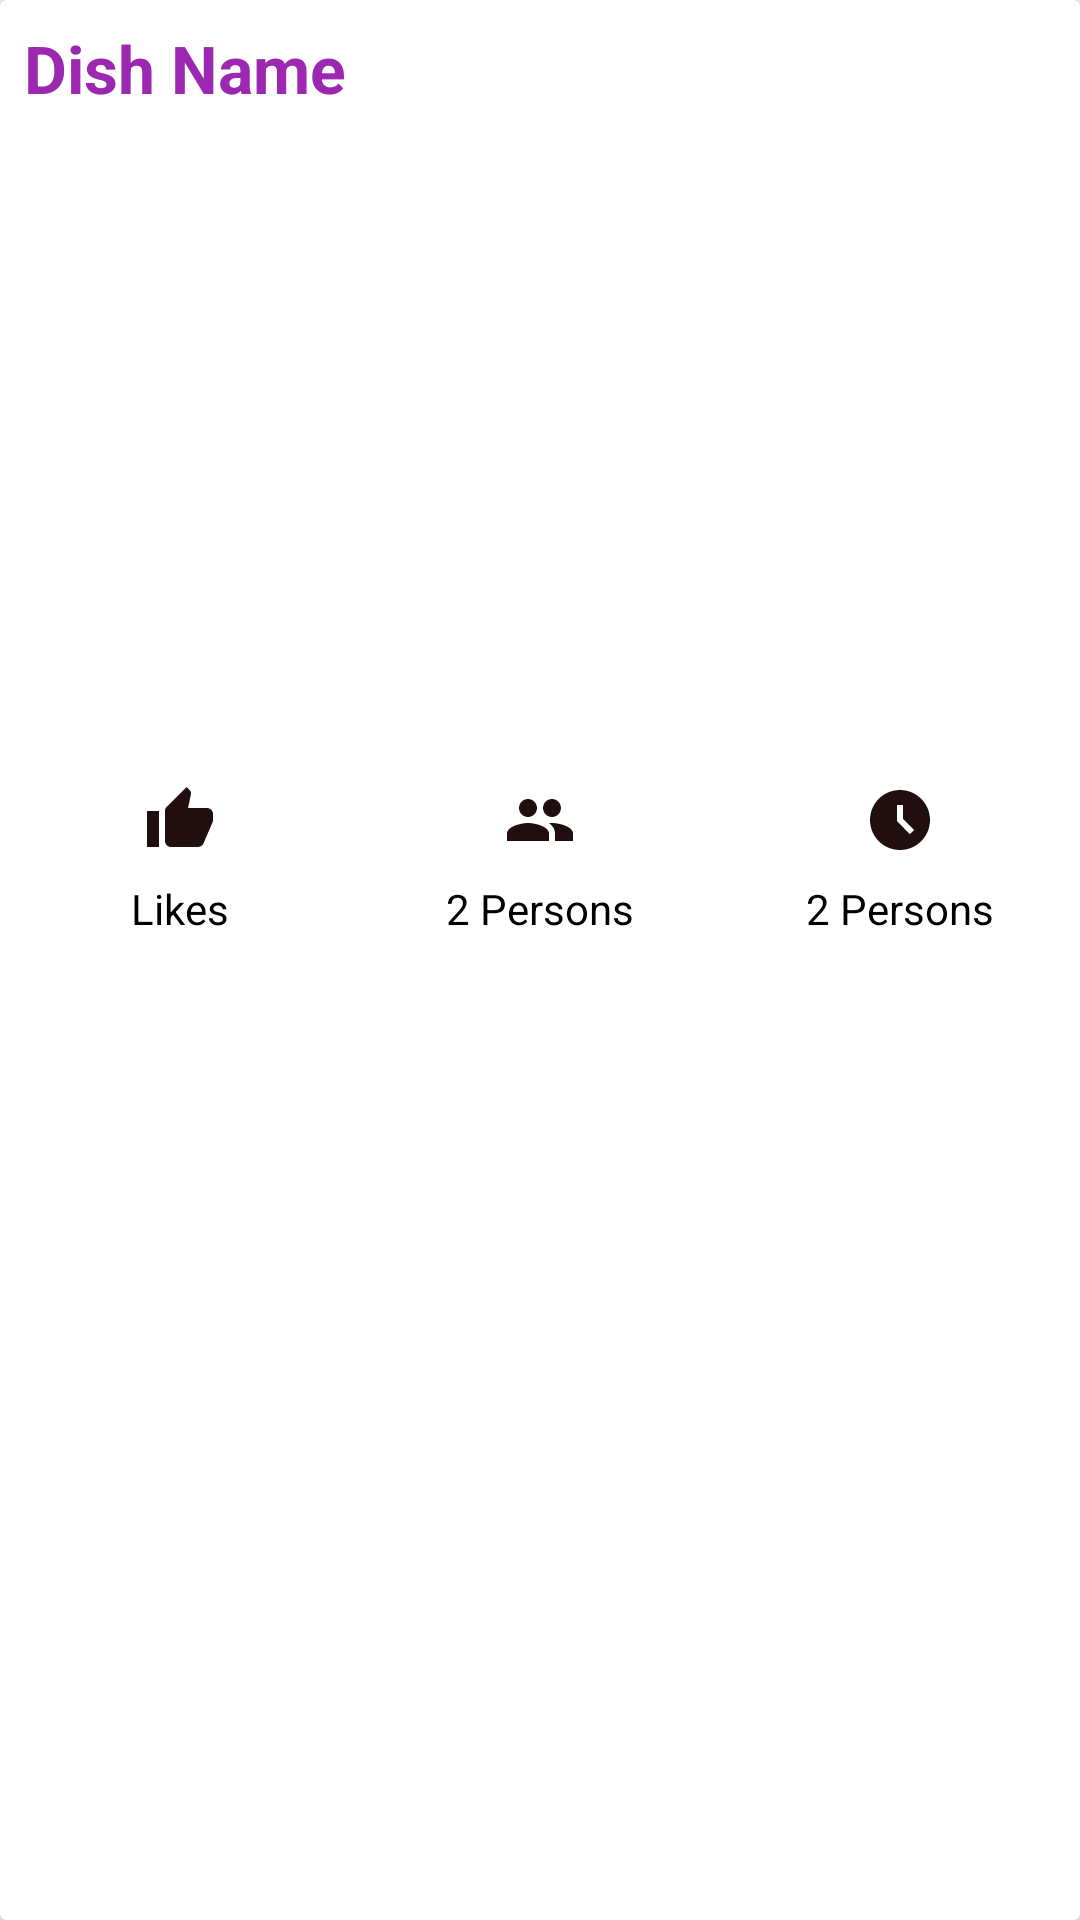

Where icons sit on this 1080*1920 app screen, as (x1, y1, x2, y2):
servings: (507, 799, 573, 841)
time: (870, 790, 930, 850)
